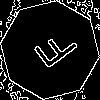F: (25, 25, 80, 77)
